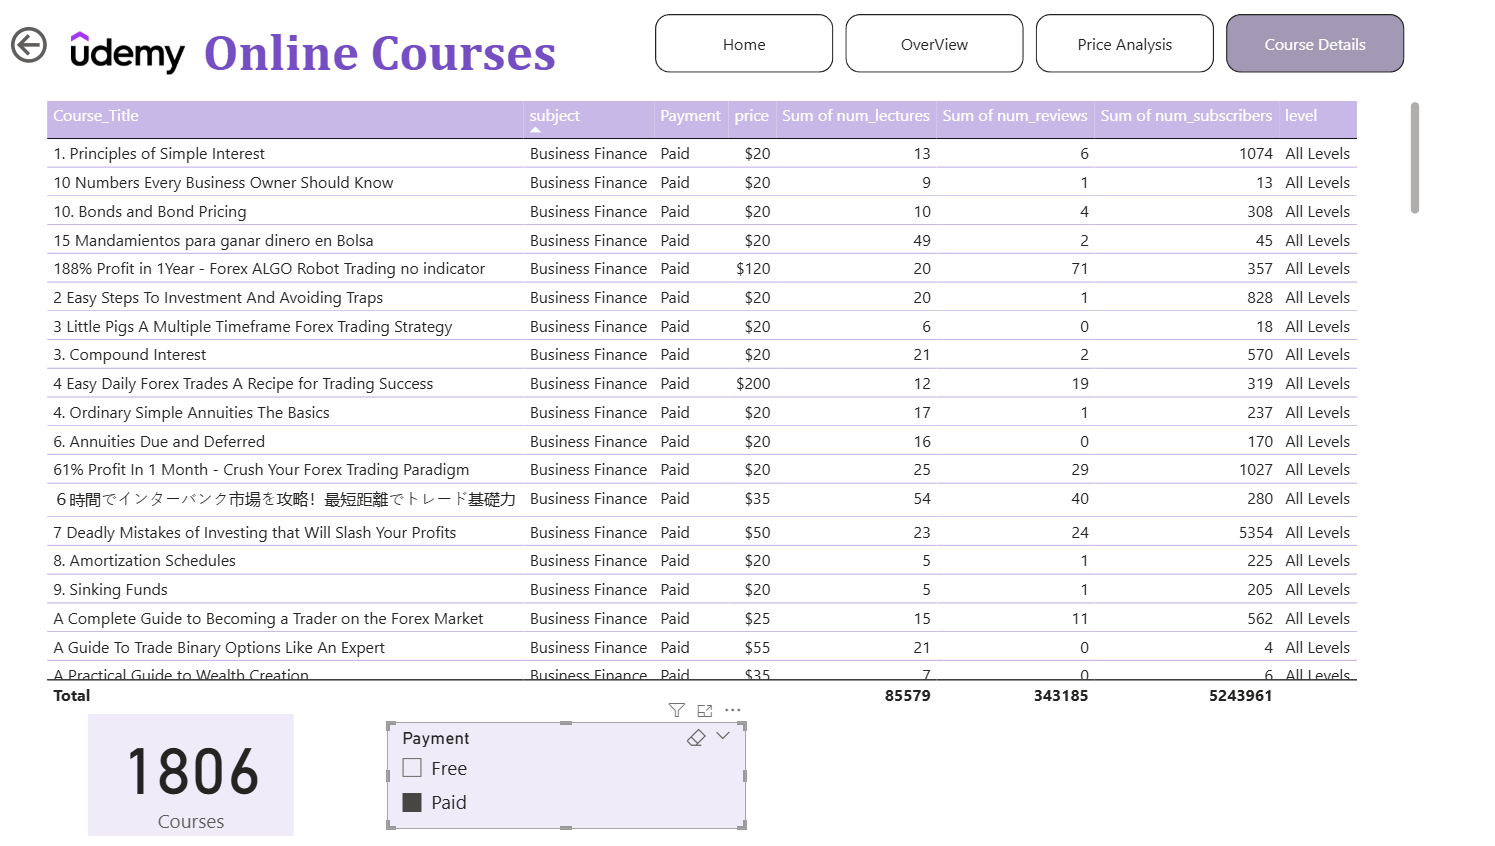

The page's visual inventory and layout, read from the dashboard file:
{"tool":"powerbi","page":{"name":"Course Details","canvas":[1280,720],"ordinal":3},"visuals":[{"type":"tableEx","fields":{"Values":["udemy.Course_Title","udemy.subject","udemy.Payment","udemy.price","Sum(udemy.num_lectures)","Sum(udemy.num_reviews)","Sum(udemy.num_subscribers)","udemy.level"]},"box":[60.3,92.4,1158.4,517.4],"z":0},{"type":"card","fields":{"Values":["udemy.Courses"]},"box":[100.2,609.8,172.2,102.1],"z":1000},{"type":"slicer","fields":{"Values":["udemy.Payment"]},"box":[350.2,616.7,299.6,89.5],"z":2000},{"type":"actionButton","box":[31.1,31.1,100.2,39.9],"z":3000},{"type":"textbox","box":[191.6,26.3,317.1,60.3],"z":4000},{"type":"image","box":[80.7,22.4,106,70],"z":5000},{"type":"pageNavigator","box":[573.9,25.3,629.3,49.6],"z":6000}]}

Visuals, with their boxes in screenshot pixels (x1, y1, x2, y2), scaled from the page's 1280x720 canvas onto the 1495x846 screenshot:
tableEx - udemy.Course_Title x udemy.subject: Rect(70, 109, 1423, 717)
card - udemy.Courses: Rect(117, 717, 318, 836)
slicer - udemy.Payment: Rect(409, 725, 759, 830)
actionButton: Rect(36, 37, 153, 83)
textbox: Rect(224, 31, 594, 102)
image: Rect(94, 26, 218, 109)
pageNavigator: Rect(670, 30, 1405, 88)
